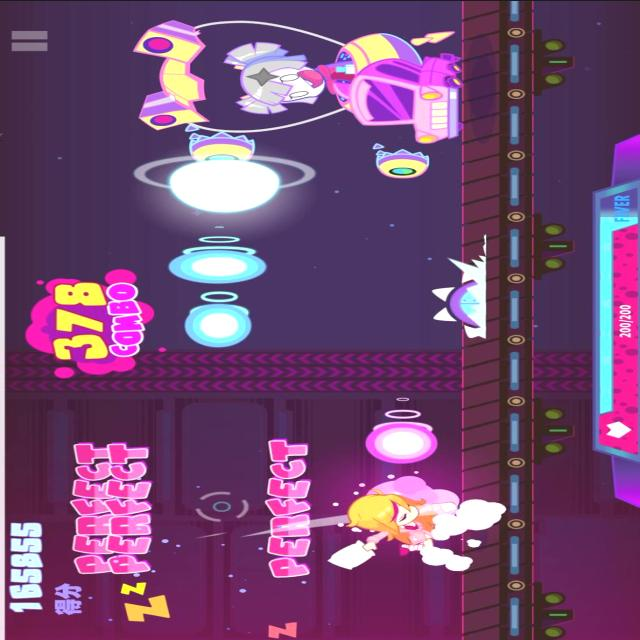ci: (429, 230, 492, 340)
yuan: (168, 221, 276, 285), (362, 393, 439, 463), (177, 288, 255, 348)
